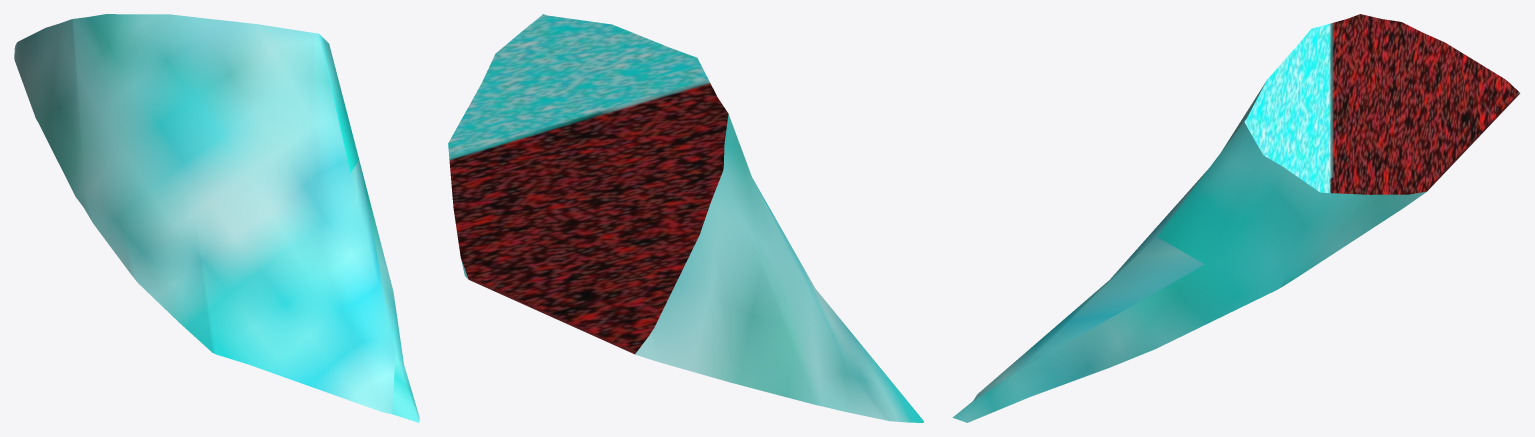
The picture shows the model from 3 angles, left to right: view 1: azimuth 30°, elevation 25°; view 2: azimuth 150°, elevation 25°; view 3: azimuth 270°, elevation 25°; orthographic projection. The views are drawn at different scales.
Parts seen in each view (by area): view 1: SM_VFX_Withered_Spike_13_LOD0; view 2: SM_VFX_Withered_Spike_13_LOD0; view 3: SM_VFX_Withered_Spike_13_LOD0.
Part boxes in pixels (box(x1,y1,x2,y2)): SM_VFX_Withered_Spike_13_LOD0: box(14, 14, 419, 422); SM_VFX_Withered_Spike_13_LOD0: box(448, 14, 923, 422); SM_VFX_Withered_Spike_13_LOD0: box(952, 14, 1520, 422).
Bounding box in the file's own units: 0.8251 × 1.09 × 1.64.
1 material, 1 textured.
